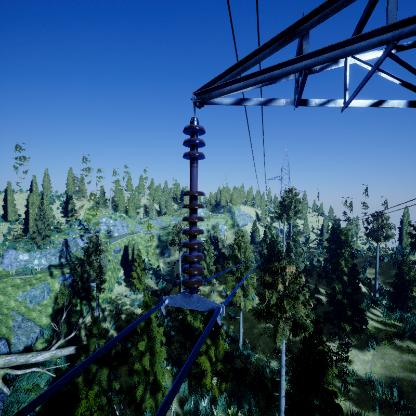insulator: (179, 123, 209, 291)
